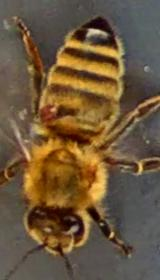varroa_mite: (31, 97, 58, 124)
